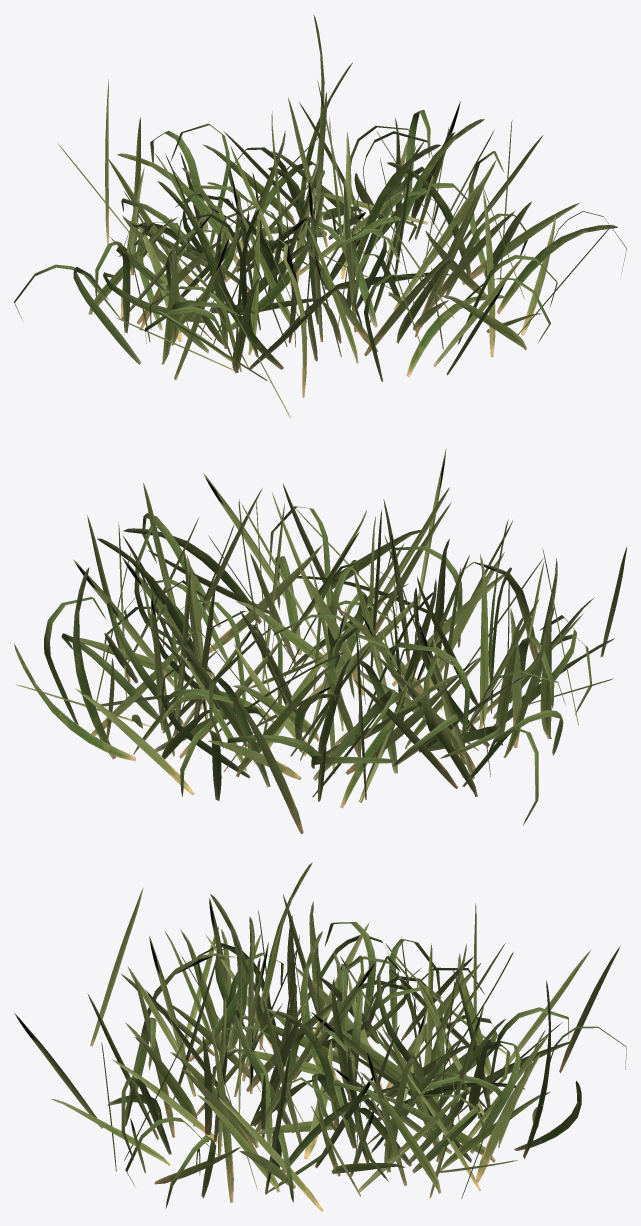
Rendered from grass.glb.
3 renders of one model, top to bottom at view 1: azimuth 30°, elevation 25°; view 2: azimuth 150°, elevation 25°; view 3: azimuth 270°, elevation 25°, orthographic. The views are drawn at different scales.
Visible parts, largest first — view 1: grass; view 2: grass; view 3: grass.
Part boxes in pixels (bbox=[...]): grass: bbox=[14, 15, 626, 418]; grass: bbox=[14, 448, 626, 833]; grass: bbox=[14, 862, 626, 1211].
Bounding box in the file's own units: 0.5263 × 0.1962 × 0.5513.
Materials: 1 (1 with a texture image).
